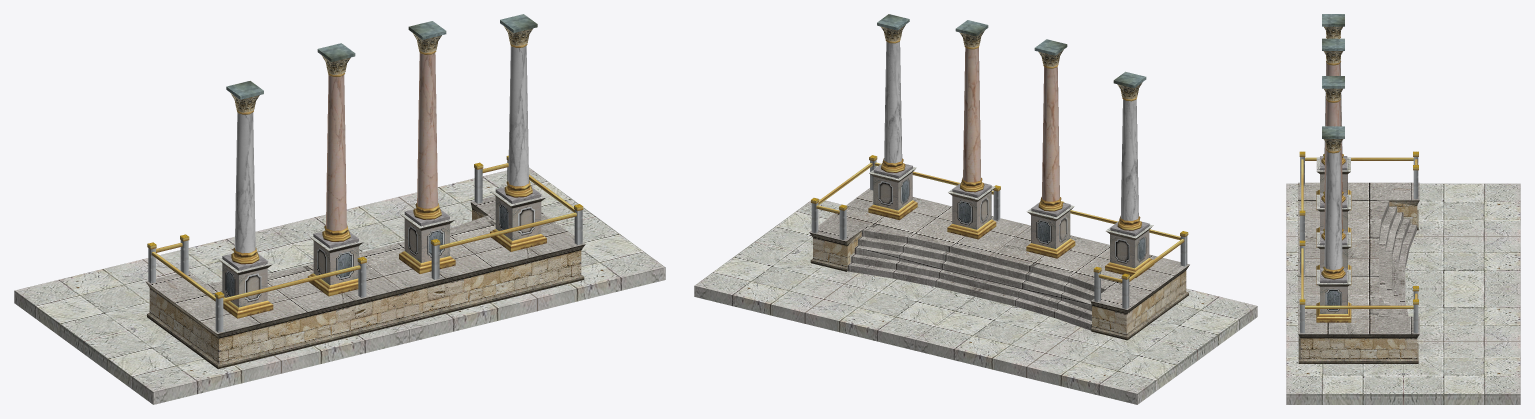
File: imp_rostrum.dae
3 renders of one model, left to right at view 1: azimuth 30°, elevation 25°; view 2: azimuth 150°, elevation 25°; view 3: azimuth 270°, elevation 25°, orthographic. The views are drawn at different scales.
Parts seen in each view (by area): view 1: rostrum.001; view 2: rostrum.001; view 3: rostrum.001.
Boxes of the visible parts, box(x1,y1,x2,y2) form: rostrum.001: box(14, 14, 665, 404); rostrum.001: box(694, 14, 1257, 404); rostrum.001: box(1286, 14, 1520, 404).
Bounding box in the file's own units: 34.31 × 16.12 × 18.05.
